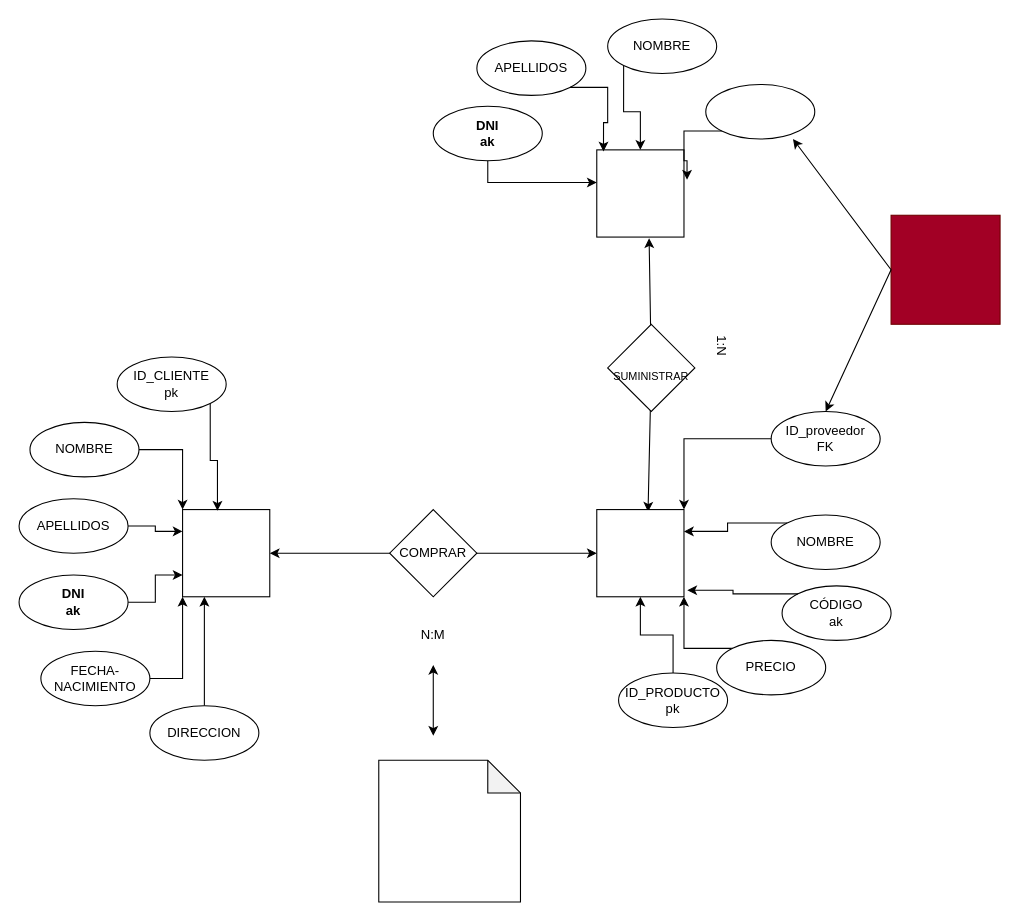
The diagram is 1019 pixels wide and 921 high, and some of its shapes have lost their labels. Each missing label, with the box of its shape:
CLIENTE: (181, 508, 270, 597)
EN RELACIONES (1:N) LA N HEREDA LA FK, QUE ES LA PK DE 1: (890, 214, 1000, 324)
ID_proveedor PK: (705, 83, 815, 139)
PRODUCTO: (596, 508, 684, 597)
PROVEEDOR: (596, 149, 684, 237)
TABLA INTERMEDIA ID_CLIENTE(PK, FK) ID_PRODUCTO (FK,PK): (378, 759, 520, 902)
